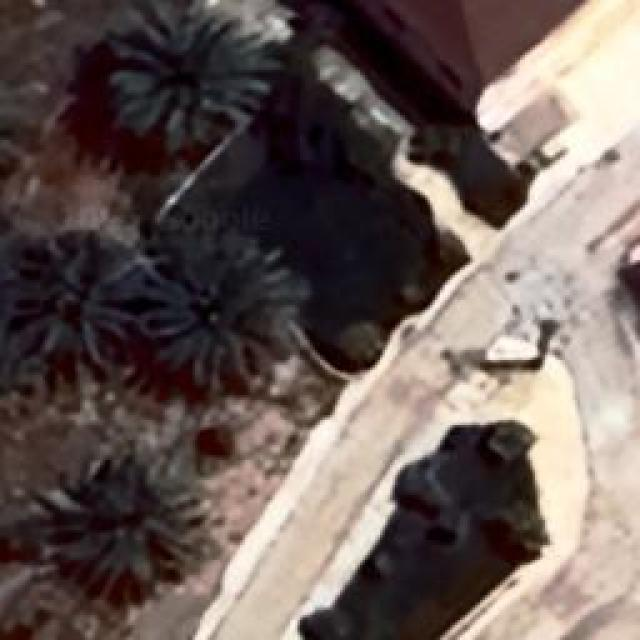PalmTree: (140, 240, 305, 390), (44, 462, 208, 600), (107, 8, 275, 142), (18, 112, 72, 376), (72, 125, 138, 295), (0, 61, 24, 191), (0, 66, 17, 190)
